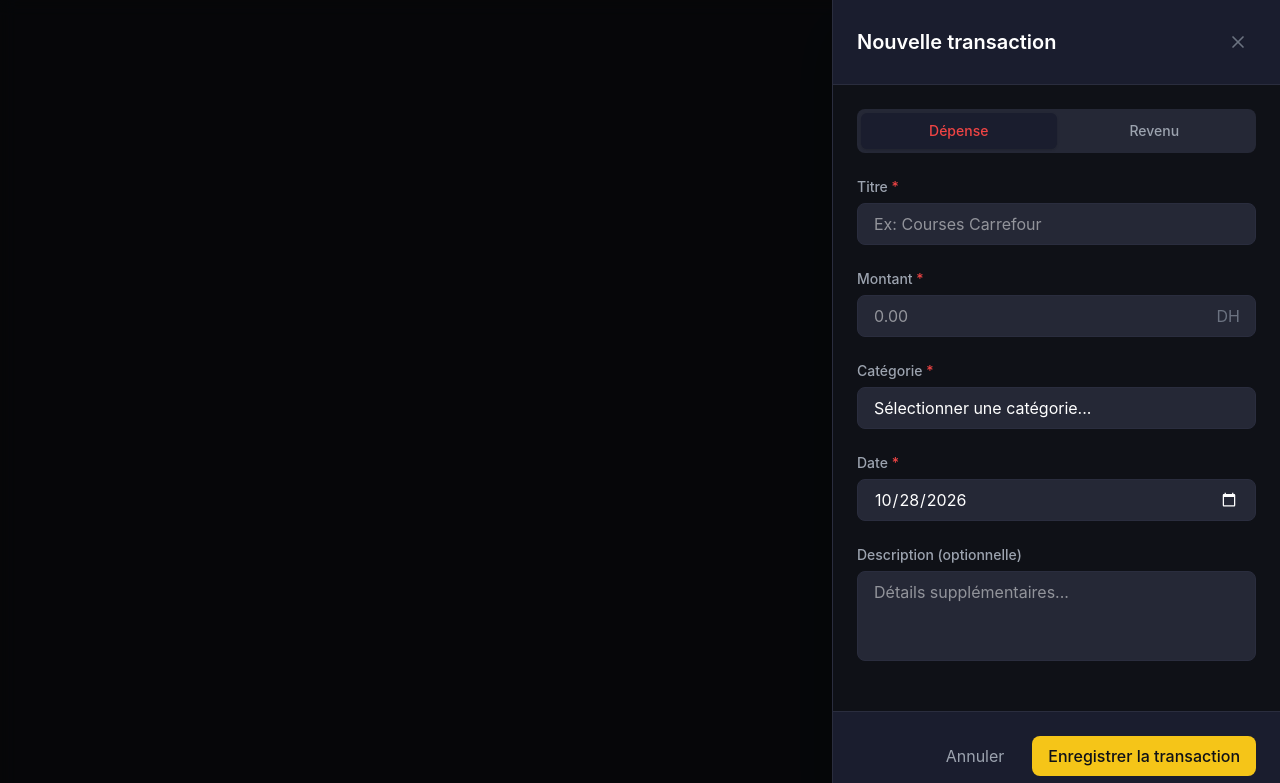
Scenario: TransactionForm › TransactionForm_whenSubmittingWithMissingTitle_shouldShowError
This screenshot has width=1280, height=783.
# Click submit without filling anything
Click the button "Enregistrer la transaction": (1144, 756) [1032,736,1256,776]
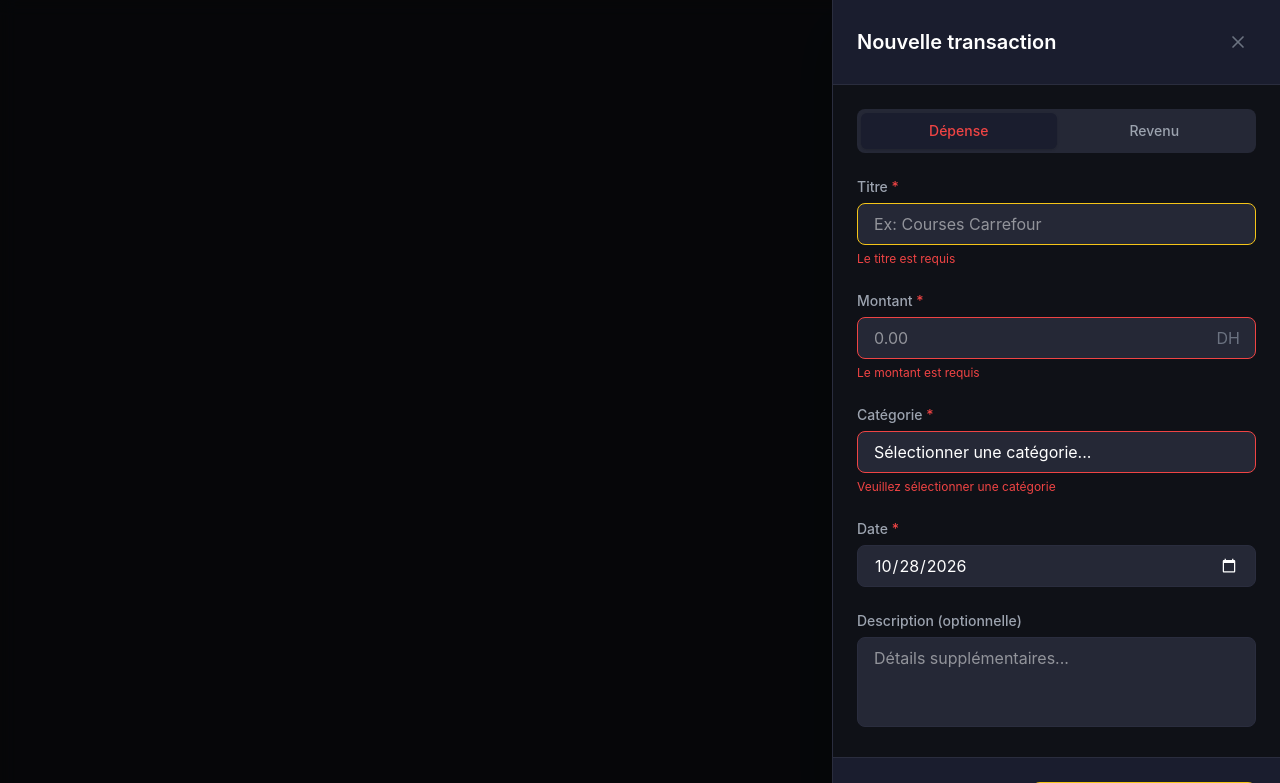
Check: the text "Le titre est requis" is shown, box [857,251,955,266]
